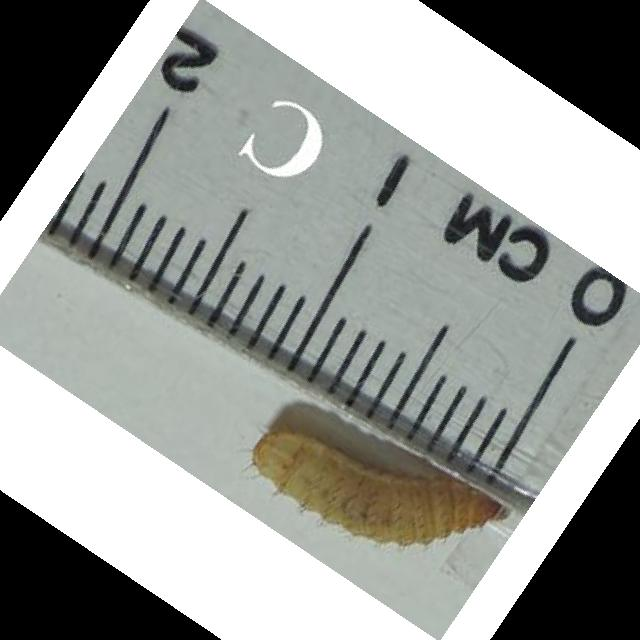Maggot: (250, 429, 508, 552)
